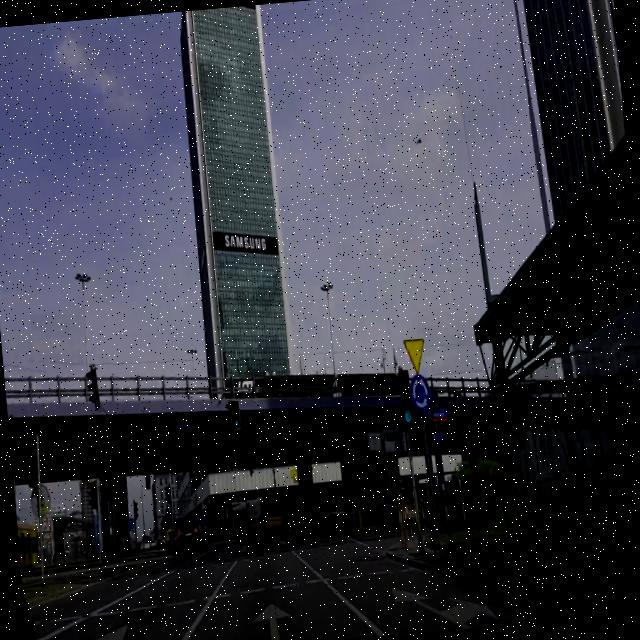Ustap pierwszenstwa: (402, 336, 427, 374)
